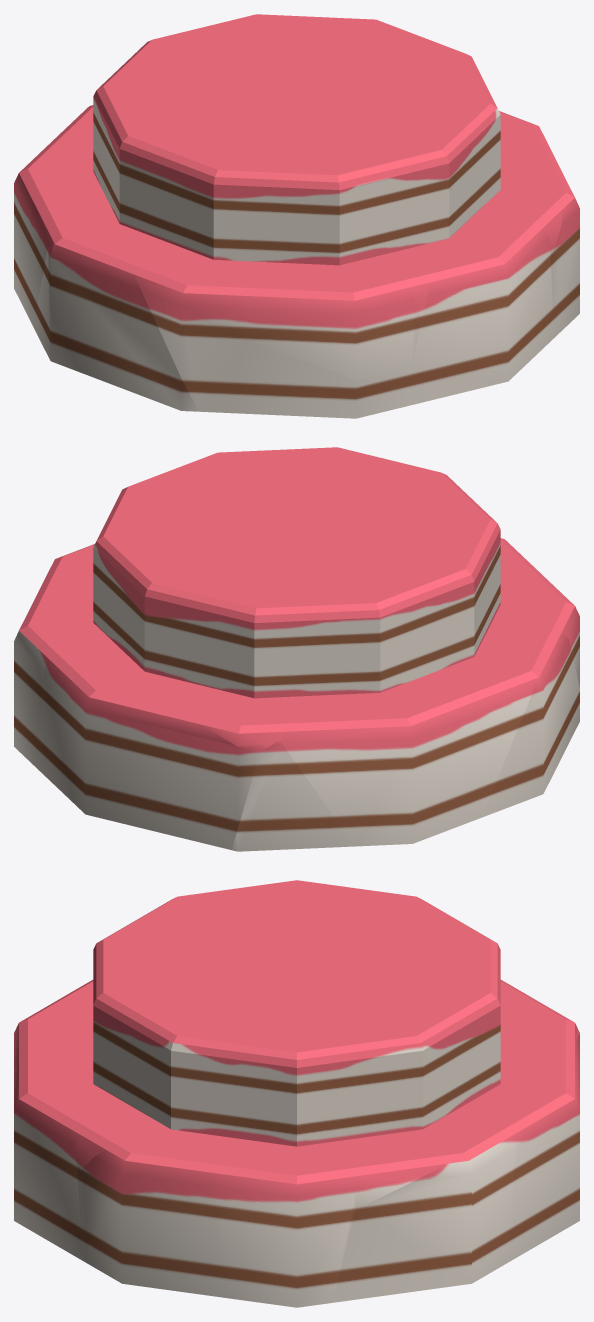
File: mode_cake.FBX
The picture shows the model from 3 angles, top to bottom: view 1: azimuth 30°, elevation 25°; view 2: azimuth 150°, elevation 25°; view 3: azimuth 270°, elevation 25°; orthographic projection. The views are drawn at different scales.
Visible parts, largest first — view 1: Cylinder001_Part_14, Cylinder001_Part_23, Cylinder001_Part_4, Cylinder001_Part_6, Cylinder001_Part_10, Cylinder001_Part_12, Cylinder001_Part_18, Cylinder001_Part_1, Cylinder001_Part_21, Cylinder001_Part_16, Cylinder001_Part_25, Cylinder001_Part_3 (+3 smaller); view 2: Cylinder001_Part_10, Cylinder001_Part_18, Cylinder001_Part_15, Cylinder001_Part_12, Cylinder001_Part_14, Cylinder001_Part_6, Cylinder001_Part_21, Cylinder001_Part_8, Cylinder001_Part_3, Cylinder001_Part_9, Cylinder001_Part_1, Cylinder001_Part_20 (+3 smaller); view 3: Cylinder001_Part_19, Cylinder001_Part_17, Cylinder001_Part_20, Cylinder001_Part_18, Cylinder001_Part_3, Cylinder001_Part_1, Cylinder001_Part_12, Cylinder001_Part_15, Cylinder001_Part_4, Cylinder001_Part_9, Cylinder001_Part_21, Cylinder001_Part_11 (+5 smaller).
Boxes of the visible parts, <box> form: Cylinder001_Part_14: <box>126,108,275,412</box>; Cylinder001_Part_23: <box>242,171,416,379</box>; Cylinder001_Part_4: <box>411,169,553,404</box>; Cylinder001_Part_6: <box>33,237,198,411</box>; Cylinder001_Part_10: <box>14,81,160,326</box>; Cylinder001_Part_12: <box>161,99,435,180</box>; Cylinder001_Part_18: <box>71,14,339,128</box>; Cylinder001_Part_1: <box>397,74,535,223</box>; Cylinder001_Part_21: <box>155,42,414,107</box>; Cylinder001_Part_16: <box>228,340,414,418</box>; Cylinder001_Part_25: <box>360,170,432,339</box>; Cylinder001_Part_3: <box>326,18,481,83</box>; Cylinder001_Part_10: <box>280,568,534,846</box>; Cylinder001_Part_18: <box>109,543,374,752</box>; Cylinder001_Part_15: <box>36,634,259,849</box>; Cylinder001_Part_12: <box>257,449,476,571</box>; Cylinder001_Part_14: <box>392,504,579,687</box>; Cylinder001_Part_6: <box>482,632,579,817</box>; Cylinder001_Part_21: <box>176,488,390,578</box>; Cylinder001_Part_8: <box>231,691,354,851</box>; Cylinder001_Part_3: <box>93,472,214,581</box>; Cylinder001_Part_9: <box>23,575,106,651</box>; Cylinder001_Part_1: <box>166,447,344,490</box>; Cylinder001_Part_20: <box>14,622,60,767</box>; Cylinder001_Part_19: <box>214,1093,356,1307</box>; Cylinder001_Part_17: <box>79,1137,248,1298</box>; Cylinder001_Part_20: <box>332,1126,516,1302</box>; Cylinder001_Part_18: <box>365,901,579,1082</box>; Cylinder001_Part_3: <box>246,1004,448,1132</box>; Cylinder001_Part_1: <box>81,989,259,1126</box>; Cylinder001_Part_12: <box>93,907,340,1002</box>; Cylinder001_Part_15: <box>462,1034,579,1263</box>; Cylinder001_Part_4: <box>14,1022,124,1260</box>; Cylinder001_Part_9: <box>329,1072,501,1209</box>; Cylinder001_Part_21: <box>234,907,393,1017</box>; Cylinder001_Part_11: <box>75,1086,254,1172</box>.
Bounding box in the file's own units: 30 × 12 × 28.53.
1 material, 1 textured.
